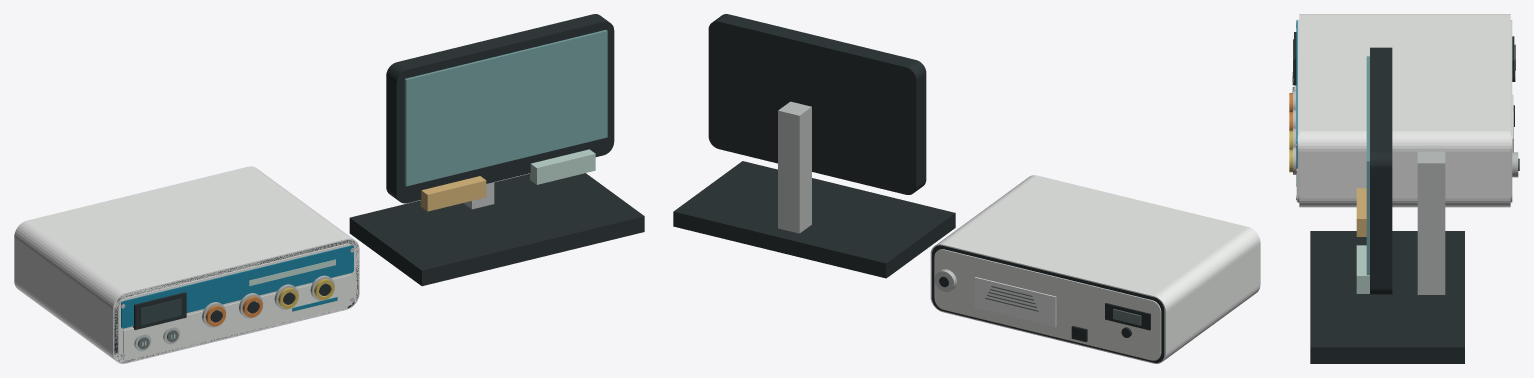
Rendered from mfcs-ez-dormant.glb.
3 renders of one model, left to right at view 1: azimuth 30°, elevation 25°; view 2: azimuth 150°, elevation 25°; view 3: azimuth 270°, elevation 25°, orthographic. The views are drawn at different scales.
Parts seen in each view (by area): view 1: White_rounded_casing, Plaque_face, Plot_stand_base, Plate_frame, Top_band_front, Pale_panel_lower_flat, Perimeter_front_pale_inset, Panel_pair_key, Panel_mirror_key, Perimeter_front_dark_trim, Unpowered_digital_display, Display_recess (+1 smaller); view 2: White_rounded_casing, Plate_frame, Plot_stand_base, Rear_pale_inset, Plot_stand_spine, Simplified_nameplate, Rear_perimeter_dormant, Rear_static_dark_rectangle; view 3: White_rounded_casing, Plot_stand_base, Plate_frame, Plot_stand_spine, Plaque_face, Panel_mirror_key, Perimeter_front_pale_inset, Rear_pale_inset, Panel_pair_key, Top_band_front.
Part boxes in pixels (left/top/right/bottom): White_rounded_casing: left=14, top=166, right=359, bottom=363; Plaque_face: left=404, top=30, right=607, bottom=186; Plot_stand_base: left=349, top=173, right=644, bottom=286; Plate_frame: left=386, top=14, right=614, bottom=203; Top_band_front: left=121, top=245, right=353, bottom=328; Pale_panel_lower_flat: left=123, top=274, right=351, bottom=359; Perimeter_front_pale_inset: left=117, top=243, right=355, bottom=360; Panel_pair_key: left=420, top=176, right=486, bottom=211; Panel_mirror_key: left=530, top=149, right=595, bottom=184; Perimeter_front_dark_trim: left=114, top=240, right=358, bottom=362; Unpowered_digital_display: left=140, top=298, right=181, bottom=325; Display_recess: left=133, top=292, right=186, bottom=329; White_rounded_casing: left=930, top=175, right=1260, bottom=363; Plate_frame: left=708, top=14, right=926, bottom=194; Plot_stand_base: left=673, top=161, right=955, bottom=278; Rear_pale_inset: left=934, top=249, right=1161, bottom=360; Plot_stand_spine: left=778, top=101, right=811, bottom=233; Simplified_nameplate: left=974, top=277, right=1056, bottom=326; Rear_perimeter_dormant: left=932, top=245, right=1164, bottom=362; Rear_static_dark_rectangle: left=1105, top=303, right=1150, bottom=330; White_rounded_casing: left=1299, top=14, right=1510, bottom=207; Plot_stand_base: left=1310, top=231, right=1464, bottom=363; Plate_frame: left=1370, top=47, right=1392, bottom=294; Plot_stand_spine: left=1417, top=151, right=1445, bottom=294; Plaque_face: left=1366, top=56, right=1369, bottom=275; Panel_mirror_key: left=1356, top=245, right=1369, bottom=293; Perimeter_front_pale_inset: left=1297, top=19, right=1299, bottom=202; Rear_pale_inset: left=1510, top=20, right=1512, bottom=202; Panel_pair_key: left=1356, top=188, right=1366, bottom=236; Top_band_front: left=1296, top=20, right=1297, bottom=168.
Bounding box in the file's own units: 0.501 × 0.172 × 0.1745.
